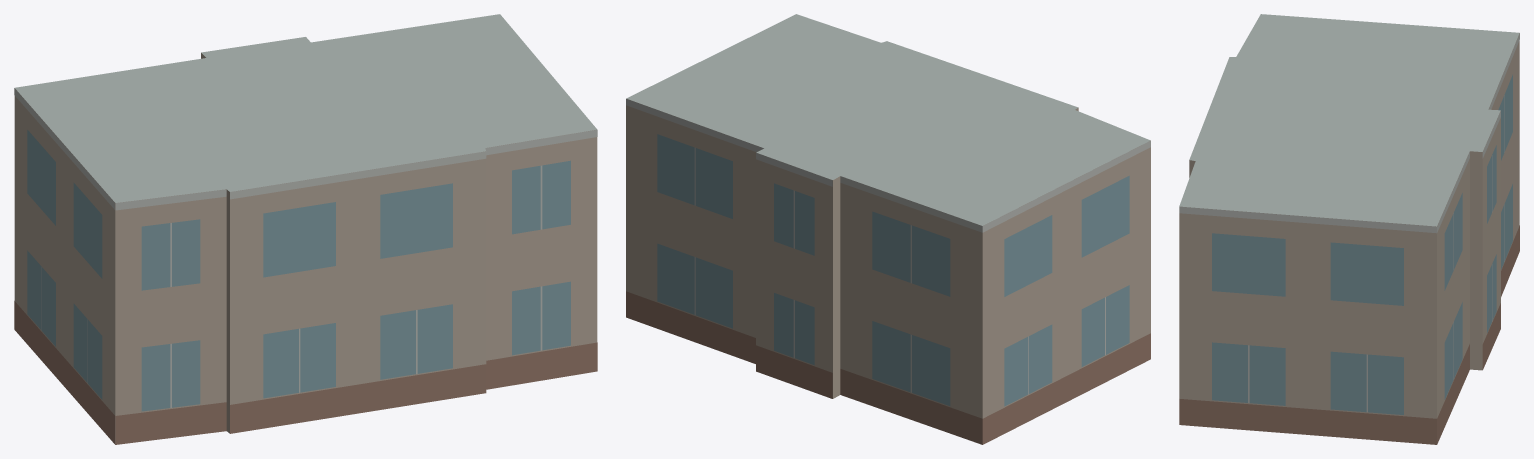
Rendered from survey-upis-32623880.glb.
The picture shows the model from 3 angles, left to right: view 1: azimuth 30°, elevation 25°; view 2: azimuth 150°, elevation 25°; view 3: azimuth 270°, elevation 25°; orthographic projection. The views are drawn at different scales.
Visible parts, largest first — view 1: survey-upis-32623880.tmp; view 2: survey-upis-32623880.tmp; view 3: survey-upis-32623880.tmp.
Boxes of the visible parts, x1,y1,x2,y2 form: survey-upis-32623880.tmp: (14,14,597,444); survey-upis-32623880.tmp: (626,14,1150,444); survey-upis-32623880.tmp: (1179,14,1519,444).
Size of the model in its own units: 16.6 by 7.95 by 11.25.
